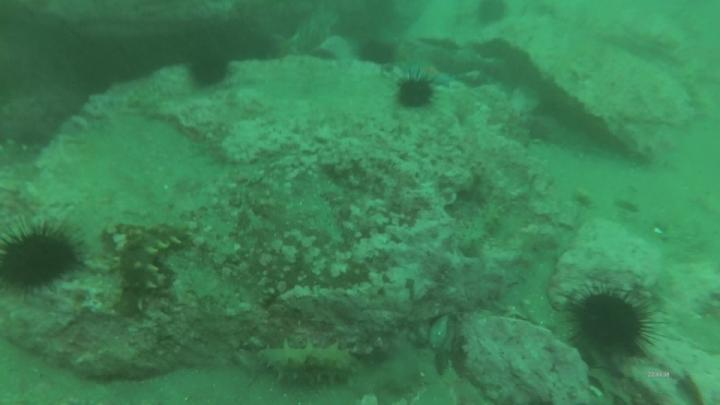echinus: (567, 276, 654, 366), (1, 216, 85, 297), (189, 38, 232, 92), (392, 70, 438, 112), (353, 39, 401, 68), (476, 1, 510, 30)
holothurian: (118, 220, 199, 303), (259, 340, 363, 382), (454, 192, 509, 257)
